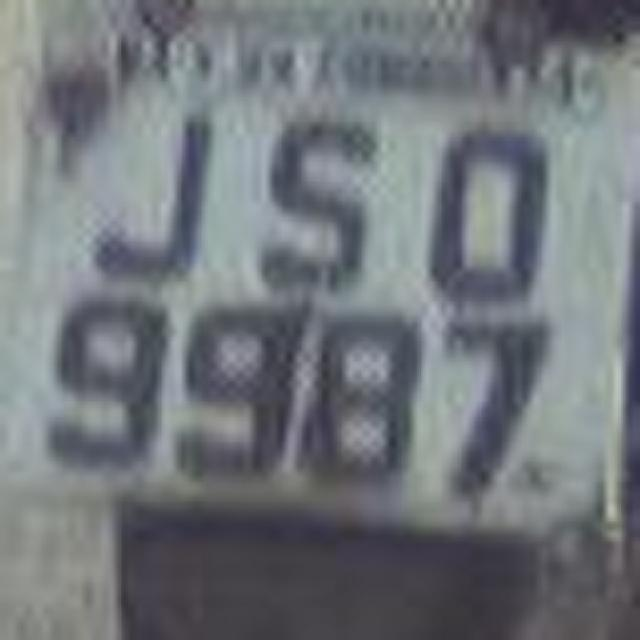7: (432, 288, 568, 500)
8: (300, 284, 440, 504)
9: (32, 272, 176, 500), (172, 284, 300, 496)
J: (76, 116, 212, 304)
O: (412, 105, 556, 300)
S: (240, 116, 385, 289)
